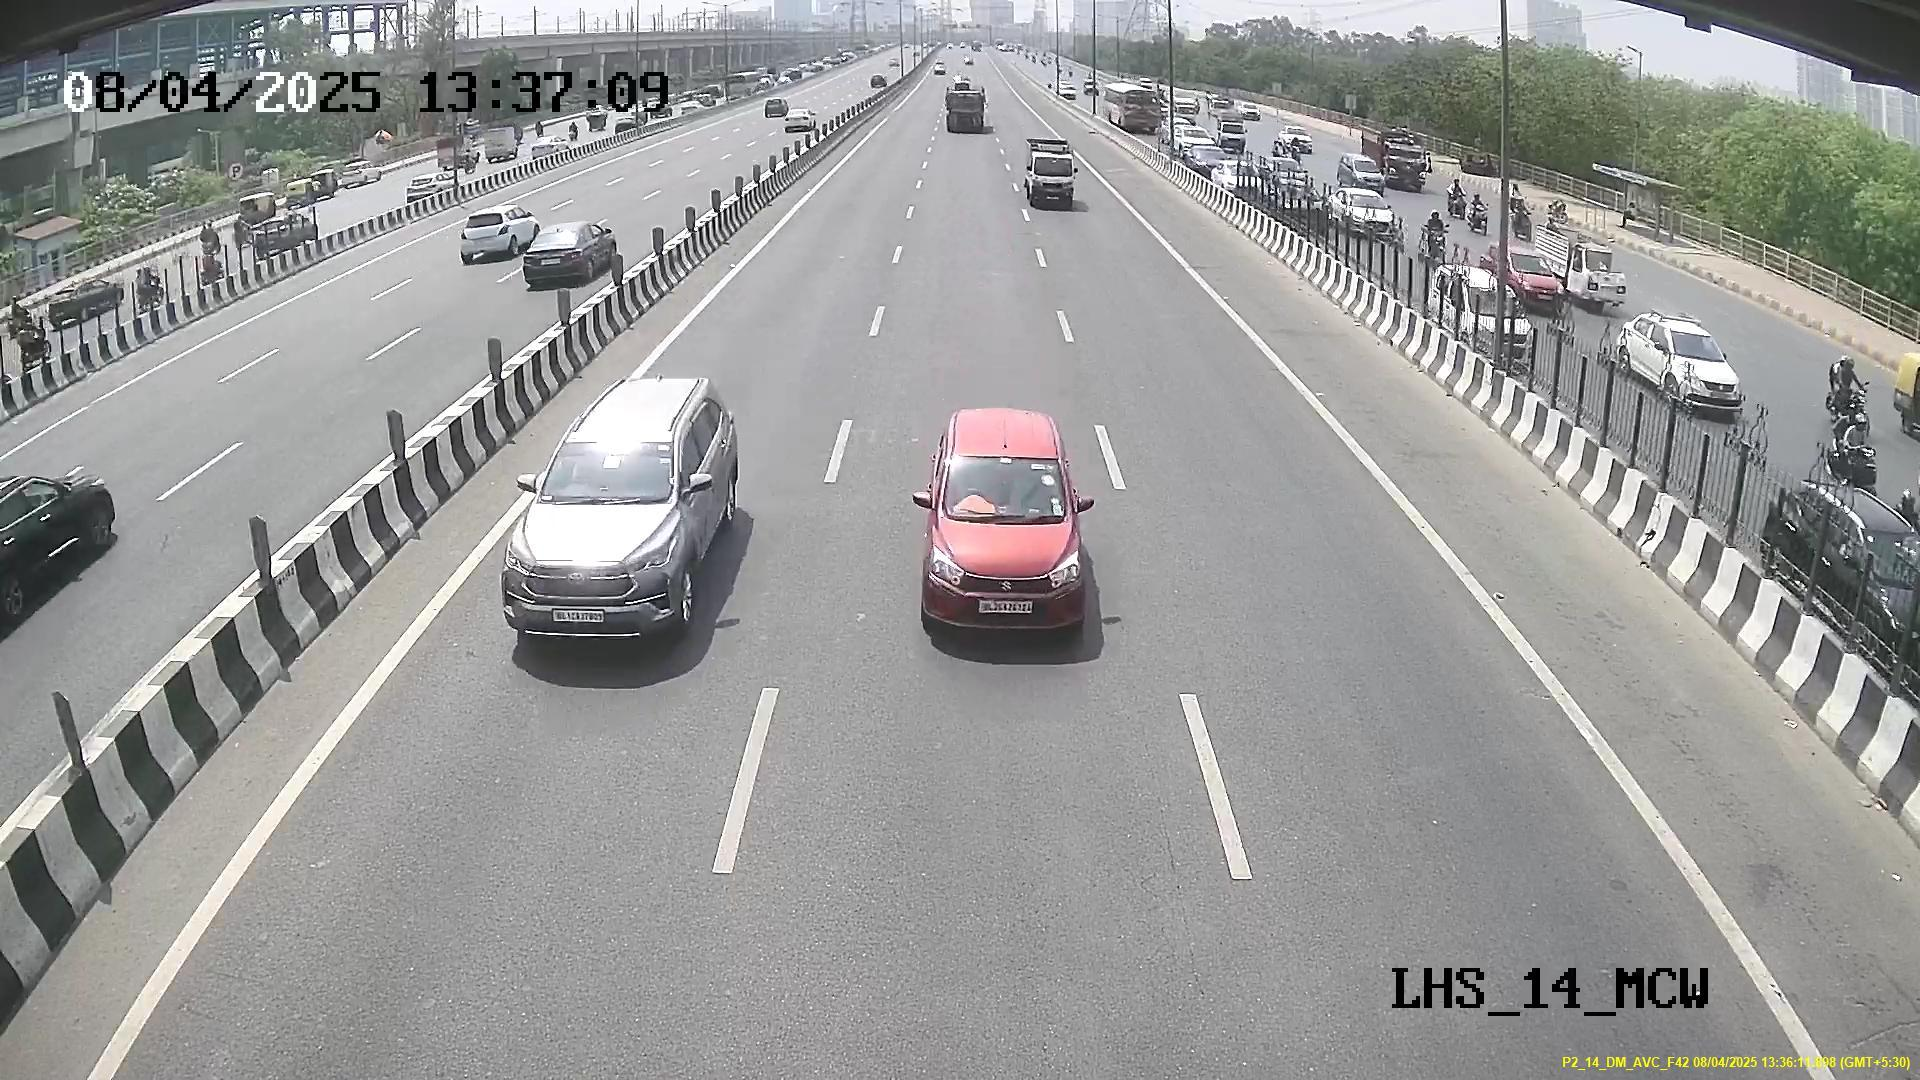car: (500, 414, 709, 649), (920, 429, 1080, 645)
